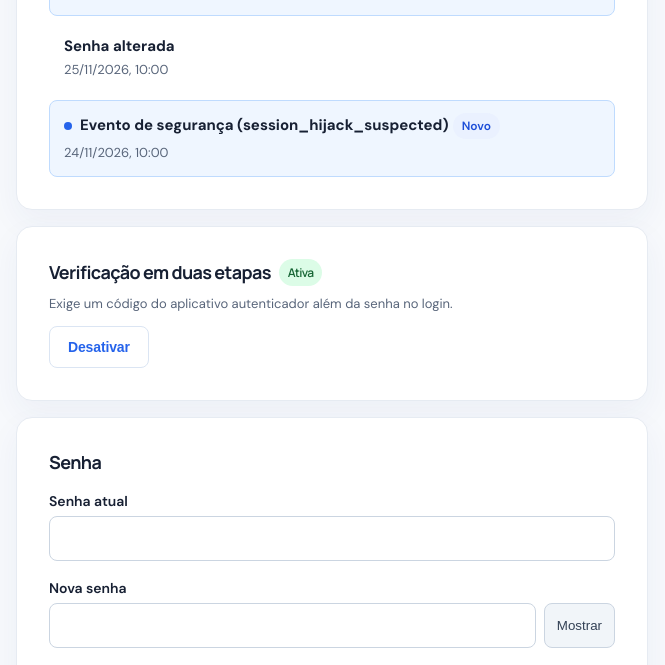
Scenario: disabling TOTP requires a current code
This screenshot has width=665, height=665.
Later steps or results of the test are not shown.
(page scrolled)
expect the text "Ativa" is shown: met, box [279,259,322,286]
Click the button "Desativar": (99, 347) [49,326,149,368]
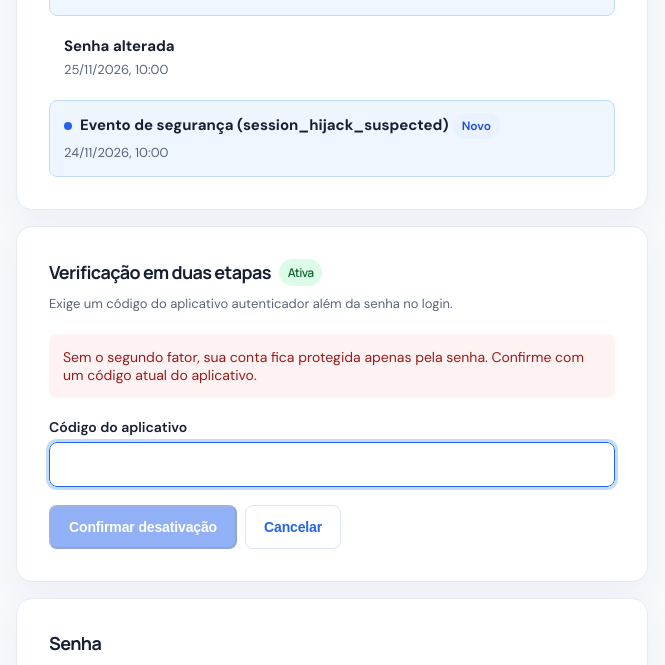
expect the button "Confirmar desativação" is disabled: met, box [49,505,237,549]
